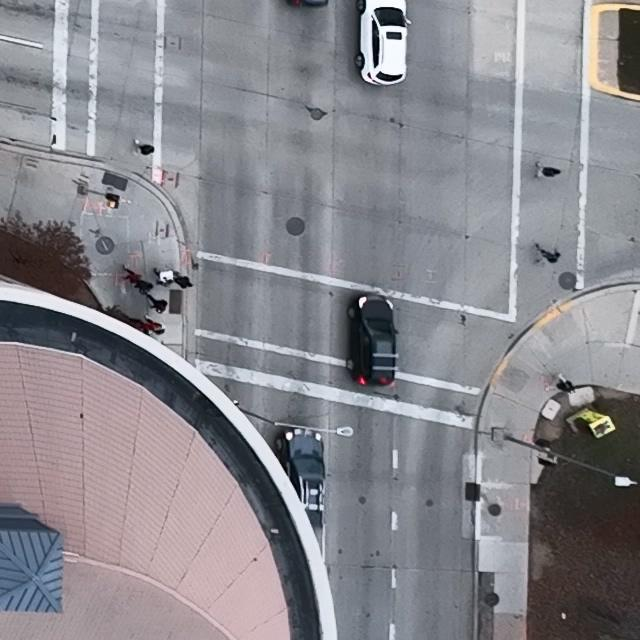car: (272, 427, 331, 528), (346, 293, 400, 388), (354, 0, 411, 85)
